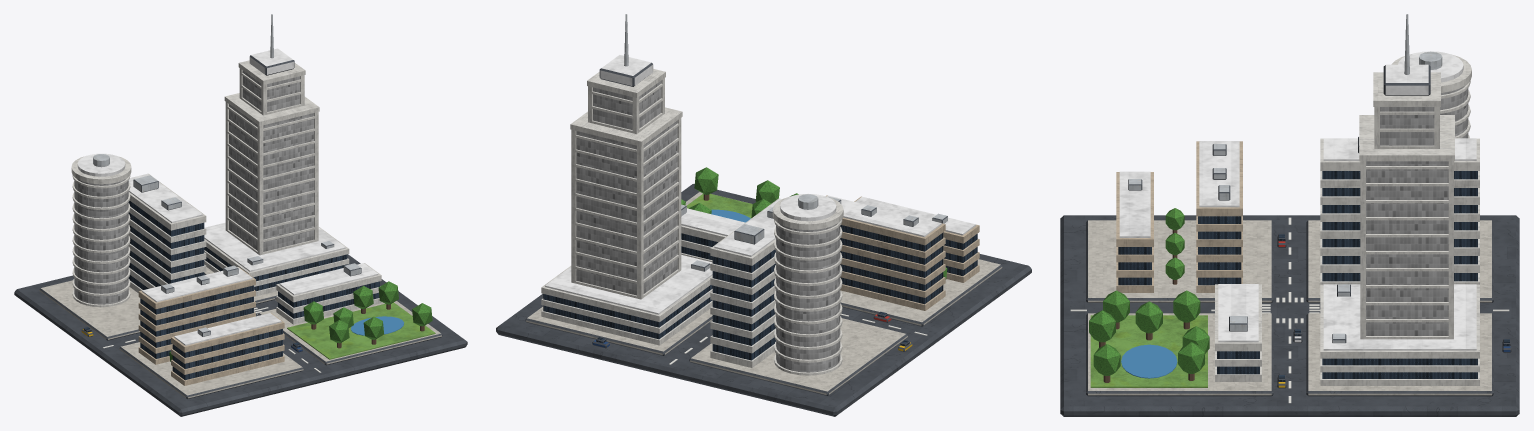
The model's file is city.gltf.
3 views of the same model, side by side, from view 1: azimuth 30°, elevation 25°; view 2: azimuth 150°, elevation 25°; view 3: azimuth 270°, elevation 25° (orthographic). The views are drawn at different scales.
Visible parts, largest first — view 1: City; view 2: City; view 3: City.
Boxes of the visible parts, <box> form: City: <box>14,14,467,416</box>; City: <box>496,14,1031,416</box>; City: <box>1060,14,1519,416</box>.
Bounding box in the file's own units: 0.98 × 0.839 × 0.98.
17 materials, 10 textured.
